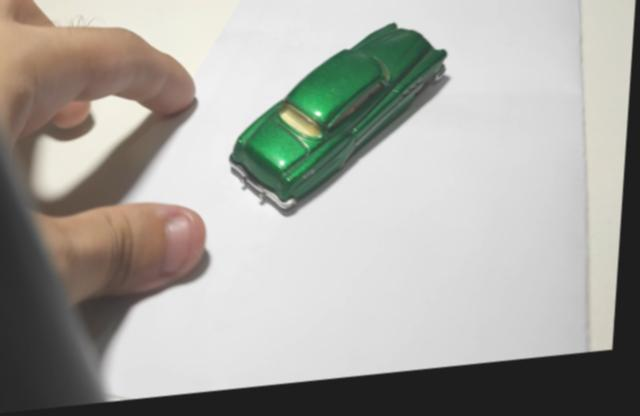06_MASERATI: (231, 33, 452, 225)
